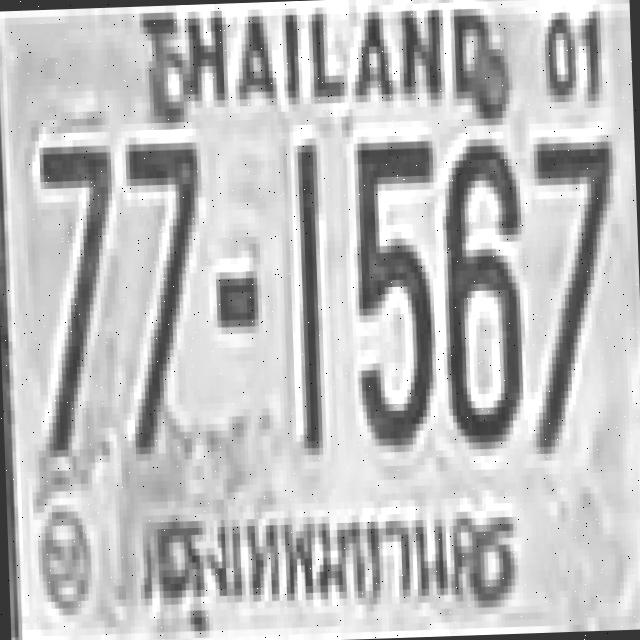1: (288, 138, 324, 448)
5: (349, 130, 438, 442)
6: (439, 134, 525, 440)
7: (525, 134, 618, 446), (120, 135, 207, 447), (34, 138, 116, 450), (34, 138, 116, 416)
Bangkok: (145, 482, 520, 632)
